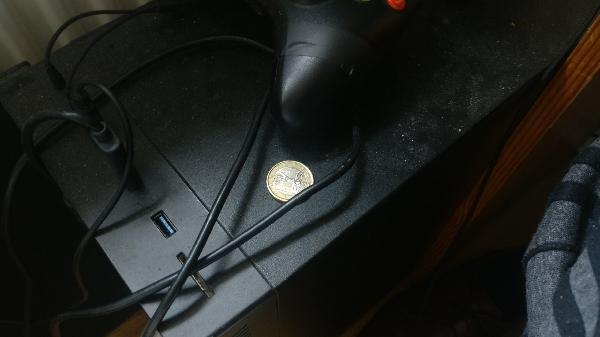One Euro: (263, 160, 316, 203)
